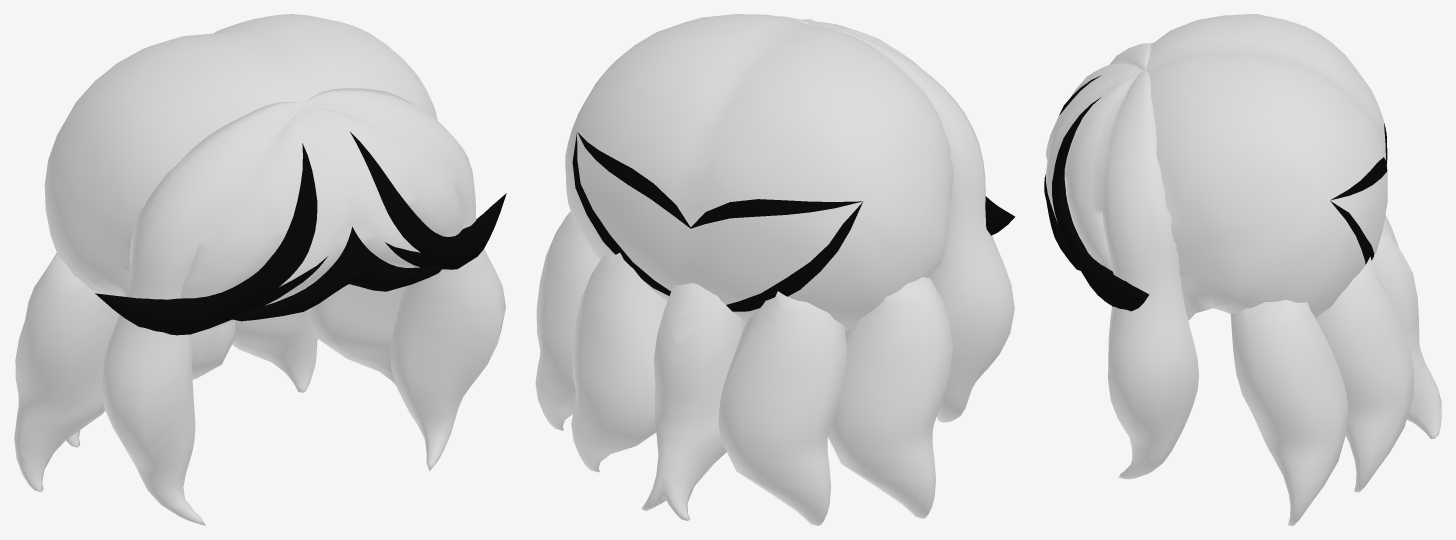
Rendered from hairTest.glb.
3 views of the same model, side by side, from view 1: azimuth 30°, elevation 25°; view 2: azimuth 150°, elevation 25°; view 3: azimuth 270°, elevation 25° (orthographic). The views are drawn at different scales.
Visible parts, largest first — view 1: hair; view 2: hair; view 3: hair.
Part boxes in pixels (x1=…): hair: x1=14, y1=14, x2=506, y2=525; hair: x1=535, y1=14, x2=1014, y2=525; hair: x1=1044, y1=14, x2=1441, y2=525.
Bounding box in the file's own units: 0.3797 × 0.3761 × 0.3414.
2 materials, 1 textured.
